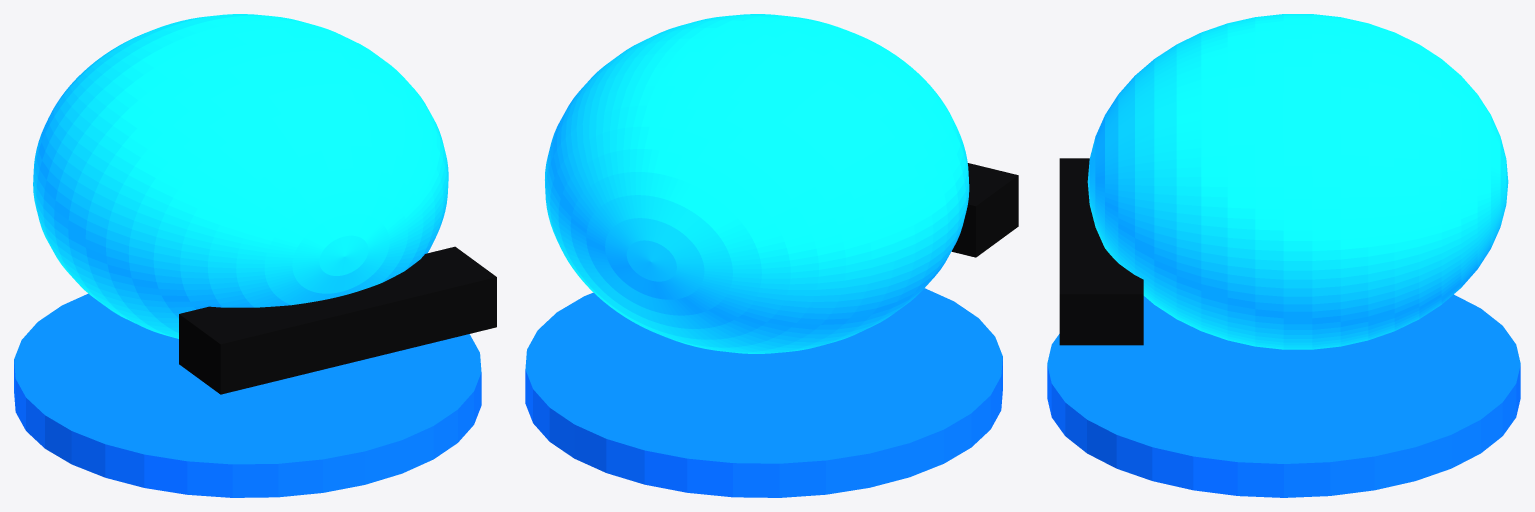
File: sports_bike_helmet.dae
3 renders of one model, left to right at view 1: azimuth 30°, elevation 25°; view 2: azimuth 150°, elevation 25°; view 3: azimuth 270°, elevation 25°, orthographic. The views are drawn at different scales.
Visible parts, largest first — view 1: 04_14_Popular_Sports_Bike_Helmet_part_01, 04_14_Popular_Sports_Bike_Helmet_ROOT_base, 04_14_Popular_Sports_Bike_Helmet_part_02; view 2: 04_14_Popular_Sports_Bike_Helmet_part_01, 04_14_Popular_Sports_Bike_Helmet_ROOT_base, 04_14_Popular_Sports_Bike_Helmet_part_02; view 3: 04_14_Popular_Sports_Bike_Helmet_part_01, 04_14_Popular_Sports_Bike_Helmet_ROOT_base, 04_14_Popular_Sports_Bike_Helmet_part_02.
Boxes of the visible parts, x1=… form: 04_14_Popular_Sports_Bike_Helmet_part_01: x1=33, y1=14, x2=448, y2=338; 04_14_Popular_Sports_Bike_Helmet_ROOT_base: x1=14, y1=293, x2=481, y2=497; 04_14_Popular_Sports_Bike_Helmet_part_02: x1=179, y1=246, x2=496, y2=394; 04_14_Popular_Sports_Bike_Helmet_part_01: x1=545, y1=14, x2=969, y2=353; 04_14_Popular_Sports_Bike_Helmet_ROOT_base: x1=525, y1=288, x2=1002, y2=497; 04_14_Popular_Sports_Bike_Helmet_part_02: x1=951, y1=163, x2=1018, y2=257; 04_14_Popular_Sports_Bike_Helmet_part_01: x1=1087, y1=14, x2=1508, y2=349; 04_14_Popular_Sports_Bike_Helmet_ROOT_base: x1=1047, y1=294, x2=1520, y2=497; 04_14_Popular_Sports_Bike_Helmet_part_02: x1=1059, y1=158, x2=1143, y2=345.
Bounding box in the file's own units: 0.76 × 0.6351 × 0.76.
